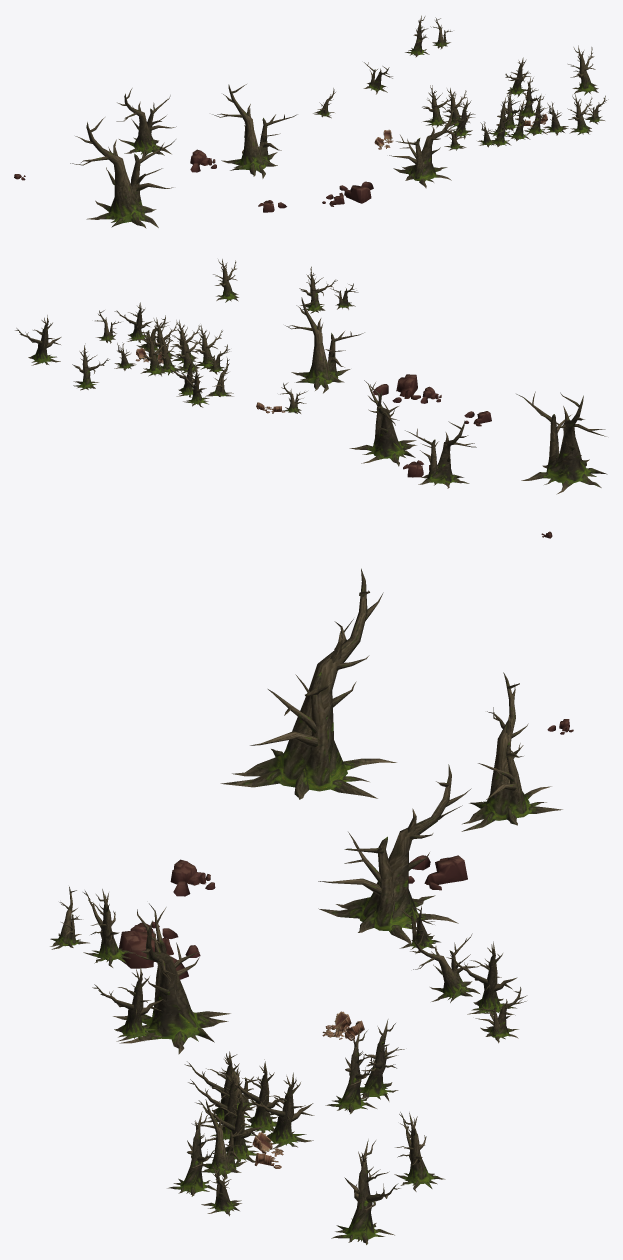
The model's file is yanshi17_wujian_1.fbx.
The picture shows the model from 3 angles, top to bottom: view 1: azimuth 30°, elevation 25°; view 2: azimuth 150°, elevation 25°; view 3: azimuth 270°, elevation 25°; orthographic projection. The views are drawn at different scales.
Visible parts, largest first — view 1: yanshi17_wujian_1; view 2: yanshi17_wujian_1; view 3: yanshi17_wujian_1.
Part boxes in pixels (x1,y1,x2,y2): yanshi17_wujian_1: (14,15,608,228); yanshi17_wujian_1: (15,259,607,538); yanshi17_wujian_1: (50,568,573,1244).
Bounding box in the file's own units: 11484 × 1868 × 4863.
